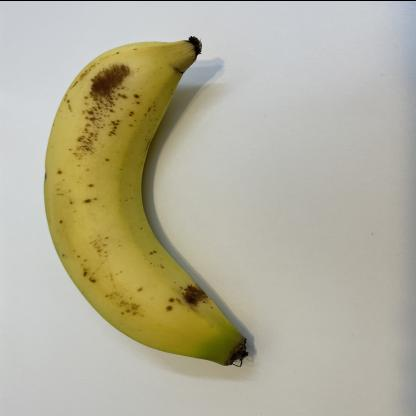banana: (40, 35, 248, 364)
